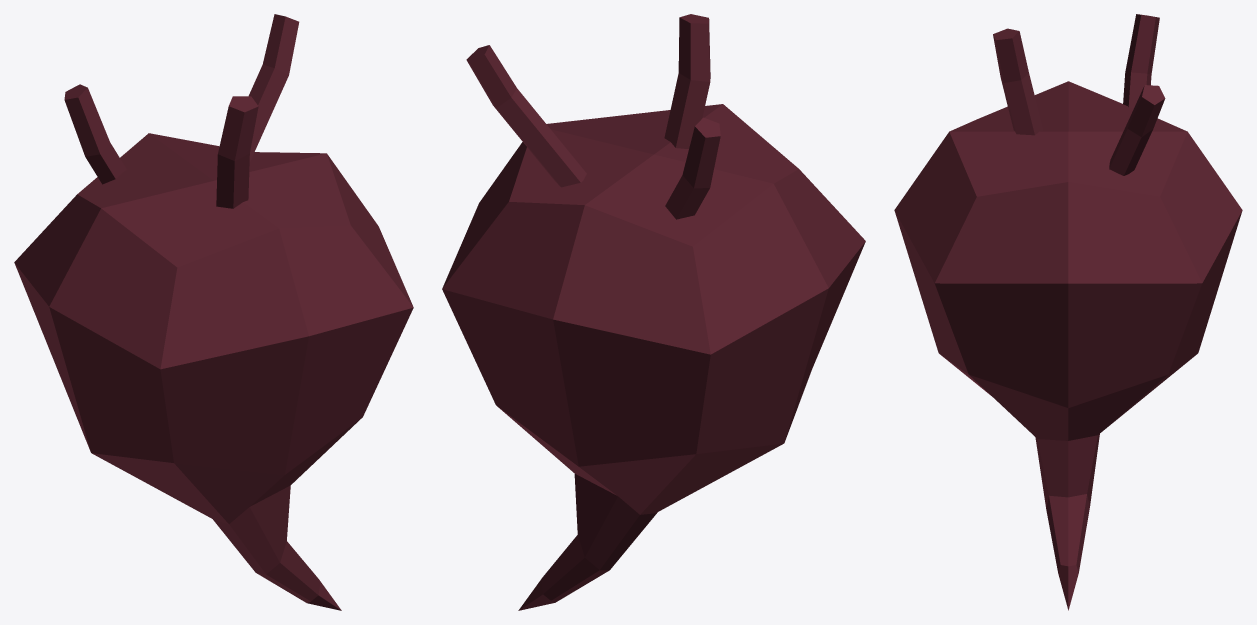
File: Beet_Crop.glb
3 views of the same model, side by side, from view 1: azimuth 30°, elevation 25°; view 2: azimuth 150°, elevation 25°; view 3: azimuth 270°, elevation 25° (orthographic). The views are drawn at different scales.
Parts seen in each view (by area): view 1: Beet_Crop.obj; view 2: Beet_Crop.obj; view 3: Beet_Crop.obj.
Part boxes in pixels (x1,y1,x2,y2): Beet_Crop.obj: (14, 14, 413, 610); Beet_Crop.obj: (442, 14, 865, 610); Beet_Crop.obj: (894, 14, 1242, 610).
Size of the model in its own units: 0.3156 by 0.5194 by 0.3156.
